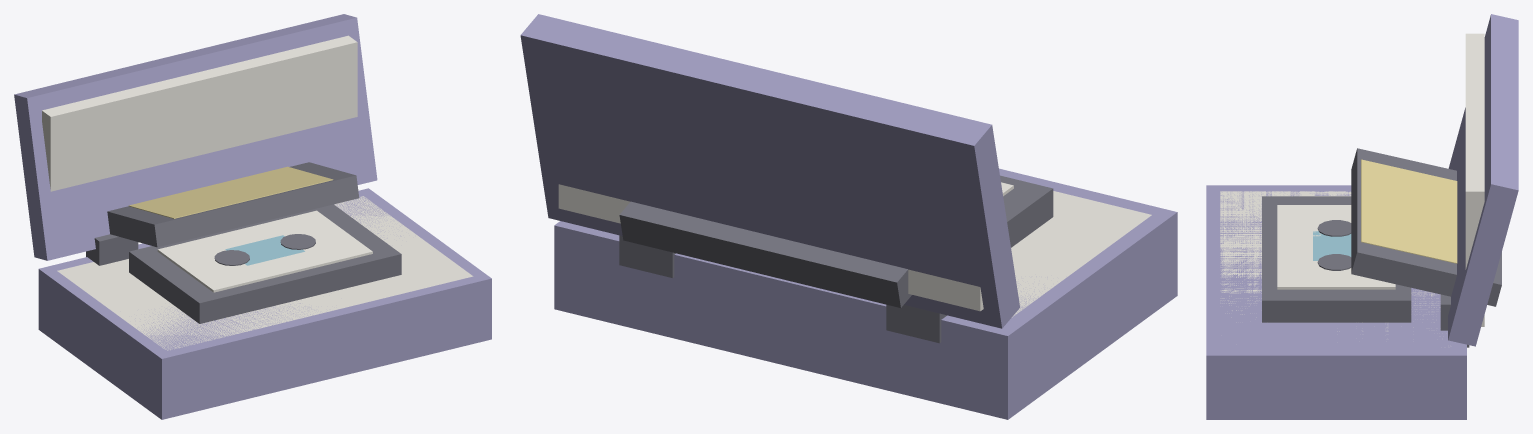
File: item_93_tape_set.glb
3 renders of one model, left to right at view 1: azimuth 30°, elevation 25°; view 2: azimuth 150°, elevation 25°; view 3: azimuth 270°, elevation 25°, orthographic. The views are drawn at different scales.
Visible parts, largest first — view 1: I93_Tray, I93_LidIn, I93_Lid, I93_TrayIn, I93_Tape1, I93_TapeLab1, I93_TapeProp, I93_TapePropLab, I93_Hinge0, I93_TapeWin1, I93_TapeReel10, I93_TapeReel11; view 2: I93_Lid, I93_Tray, I93_TapeProp, I93_TrayIn, I93_LidIn, I93_Tape1, I93_Hinge0, I93_Hinge1; view 3: I93_Tray, I93_Lid, I93_TapePropLab, I93_Tape1, I93_TapeProp, I93_TapeLab1, I93_TrayIn, I93_LidIn, I93_TapeWin1, I93_TapeReel11, I93_TapeReel10, I93_Hinge1.
Part boxes in pixels (left/top/right/bottom): I93_Tray: left=38, top=188, right=491, bottom=419; I93_LidIn: left=42, top=35, right=357, bottom=191; I93_Lid: left=14, top=14, right=377, bottom=260; I93_TrayIn: left=57, top=196, right=473, bottom=350; I93_Tape1: left=129, top=204, right=401, bottom=323; I93_TapeLab1: left=157, top=210, right=372, bottom=292; I93_TapeProp: left=107, top=162, right=359, bottom=247; I93_TapePropLab: left=128, top=166, right=333, bottom=218; I93_Hinge0: left=86, top=234, right=138, bottom=265; I93_TapeWin1: left=225, top=235, right=304, bottom=265; I93_TapeReel10: left=214, top=250, right=249, bottom=265; I93_TapeReel11: left=280, top=234, right=315, bottom=249; I93_Lid: left=520, top=14, right=1019, bottom=328; I93_Tray: left=554, top=168, right=1177, bottom=419; I93_TapeProp: left=619, top=201, right=911, bottom=307; I93_TrayIn: left=1011, top=191, right=1151, bottom=317; I93_LidIn: left=558, top=184, right=983, bottom=311; I93_Tape1: left=1000, top=175, right=1053, bottom=247; I93_Hinge0: left=886, top=304, right=946, bottom=343; I93_Hinge1: left=619, top=235, right=675, bottom=278; I93_Tray: left=1206, top=185, right=1466, bottom=419; I93_Lid: left=1448, top=14, right=1518, bottom=346; I93_TapePropLab: left=1361, top=159, right=1457, bottom=263; I93_Tape1: left=1262, top=196, right=1411, bottom=322; I93_TapeProp: left=1351, top=148, right=1501, bottom=306; I93_TapeLab1: left=1277, top=205, right=1395, bottom=289; I93_TrayIn: left=1220, top=191, right=1440, bottom=331; I93_LidIn: left=1465, top=33, right=1484, bottom=326; I93_TapeWin1: left=1313, top=231, right=1351, bottom=260; I93_TapeReel11: left=1317, top=254, right=1351, bottom=270; I93_TapeReel10: left=1317, top=220, right=1351, bottom=236; I93_Hinge1: left=1440, top=294, right=1469, bottom=347.
Size of the model in its own units: 0.17 by 0.1098 by 0.1319.
